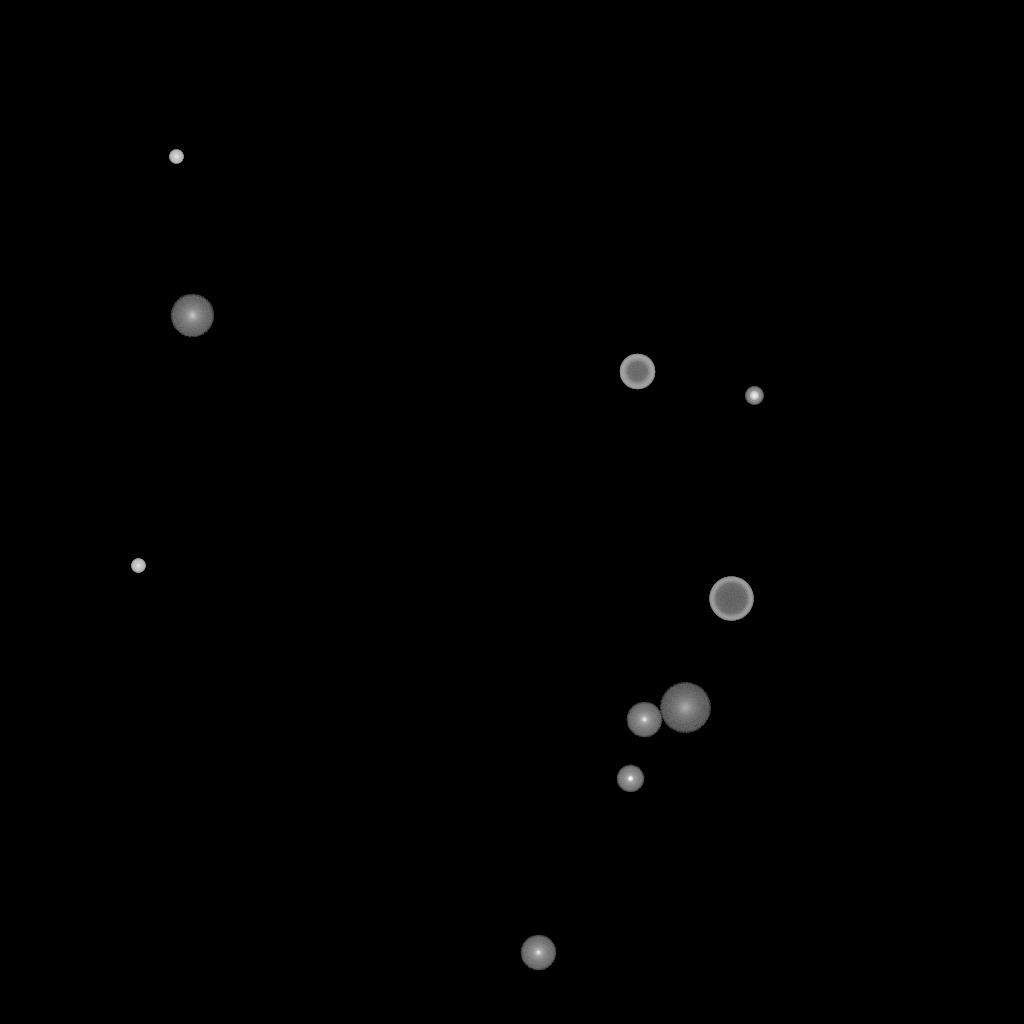depth:-10: (616, 765, 644, 793)
depth:-20: (745, 387, 763, 405)
depth:-30: (169, 150, 183, 164), (131, 559, 145, 573)
depth:-60: (619, 354, 655, 390)
depth:-70: (709, 577, 753, 621)
depth:0: (520, 935, 556, 971), (626, 702, 662, 738)
depth:10: (170, 294, 214, 338)
depth:20: (659, 683, 711, 733)
